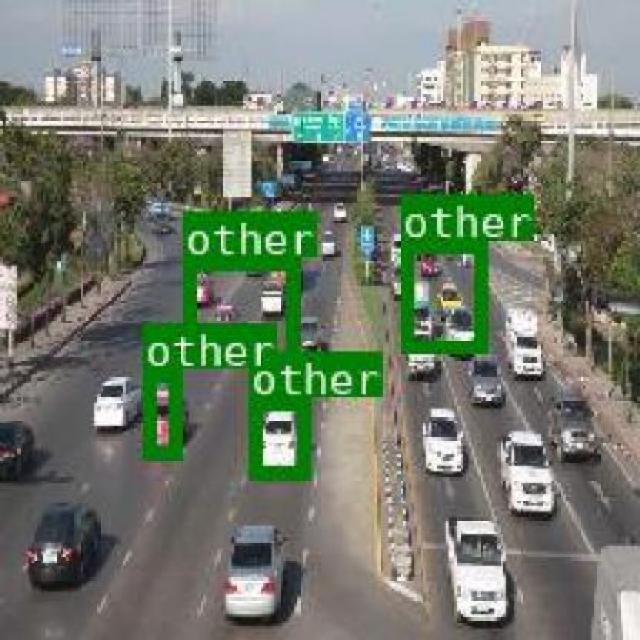other: (182, 255, 295, 363), (398, 240, 486, 349), (246, 397, 306, 477), (140, 367, 178, 456)
